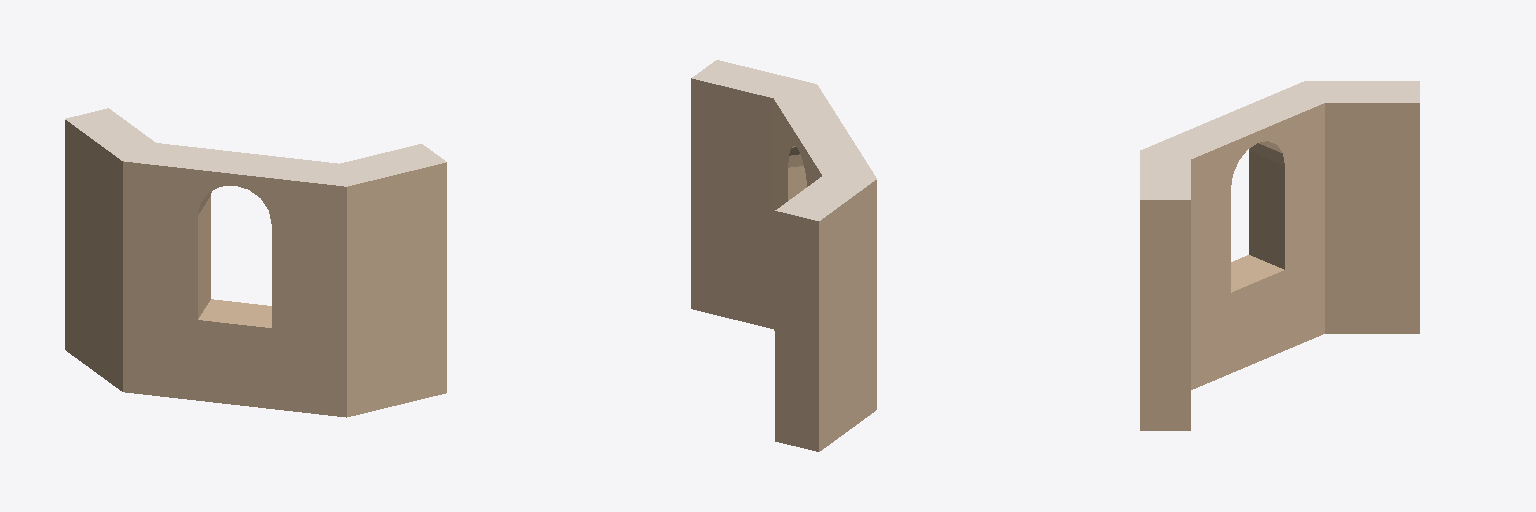
The model's file is Wall_Curved_Small_Window.obj.
The picture shows the model from 3 angles: view 1: azimuth 30°, elevation 25°; view 2: azimuth 150°, elevation 25°; view 3: azimuth 270°, elevation 25°; orthographic projection.
Parts seen in each view (by area): view 1: object1; view 2: object1; view 3: object1.
Part boxes in pixels (bbox=[...]): object1: bbox=[65, 108, 446, 417]; object1: bbox=[691, 60, 876, 451]; object1: bbox=[1140, 81, 1419, 430].
Size of the model in its own units: 1.1 by 1 by 1.1.